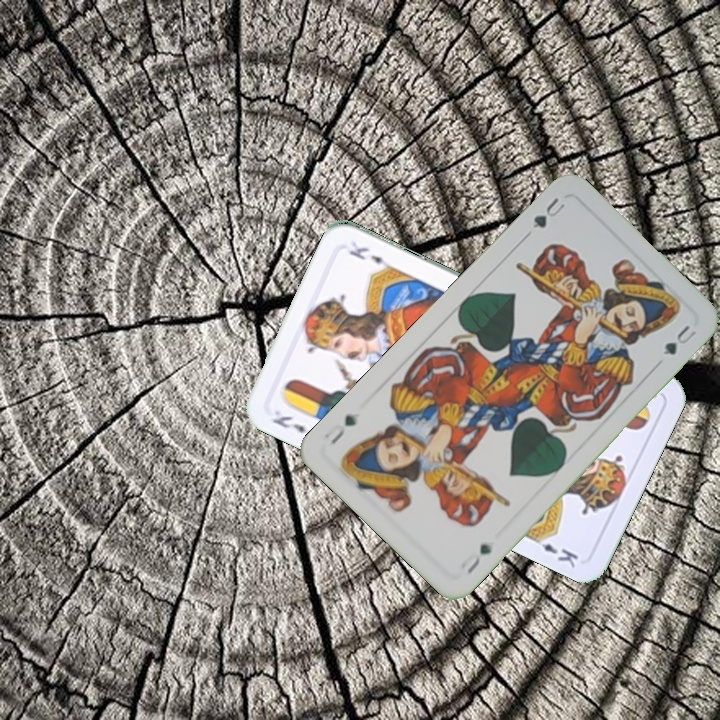EK: (268, 411, 308, 436)
GU: (528, 193, 568, 231), (463, 539, 495, 576)
